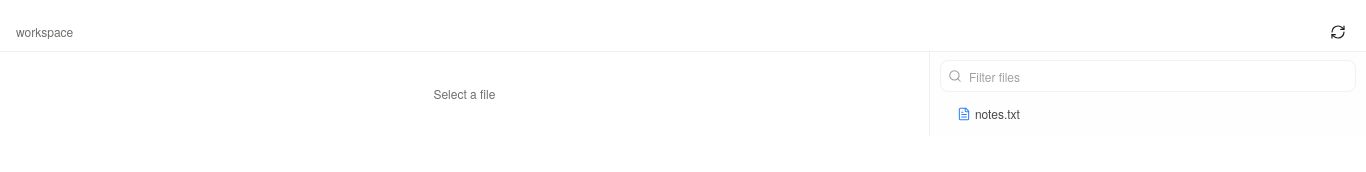
Scenario: WorkspacePanel › disables external open when the adapter does not provide a safe file URL
Click the button "notes.txt".
click(997, 114)  # box x1=936 y1=100 x2=1360 y2=128
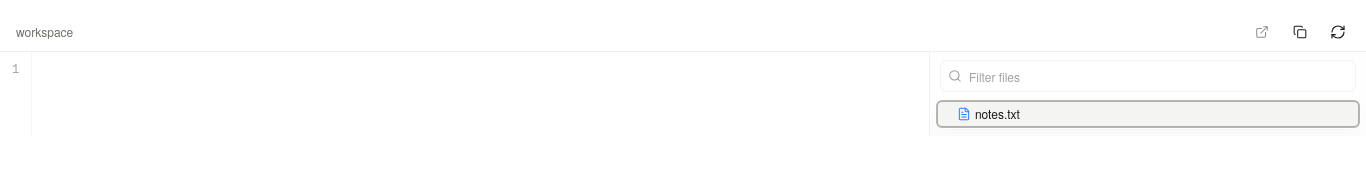
Expected: the button named "Open in a new tab" is disabled, x1=1244 y1=14 x2=1280 y2=50
